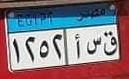1: (12, 36, 20, 66)
2: (24, 35, 37, 63), (52, 32, 62, 61)
5: (39, 39, 50, 59)
alif: (74, 34, 81, 59)
qaaf: (102, 29, 118, 56)
seen: (86, 35, 101, 55)
